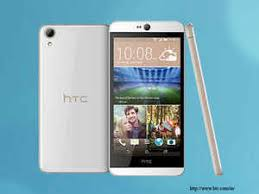htc: (109, 16, 189, 174), (36, 23, 111, 176)
